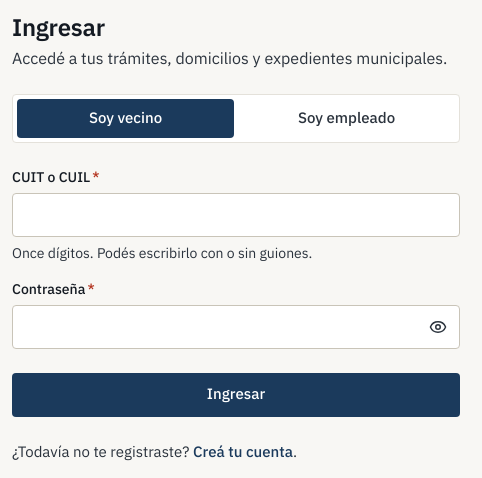
Test: validación › avisa si el CUIT no tiene 11 dígitos
The image size is (482, 478).
Step 1. Type "123" into the field labelled "CUIT o CUIL" → (236, 214), box [12,192,460,236]
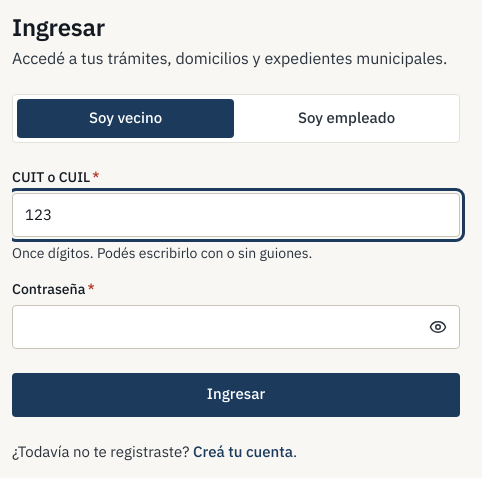
Step 2. Type "clave-larga" into the password field labelled "Contraseña" → (236, 326), box [12,304,460,348]
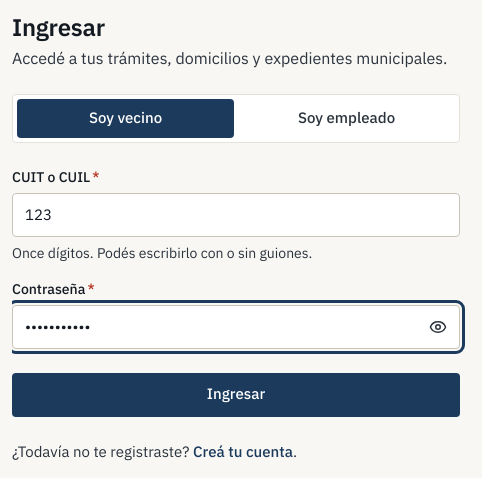
Step 3. Click the button "Ingresar" → click(236, 394), box [12,372,460,416]
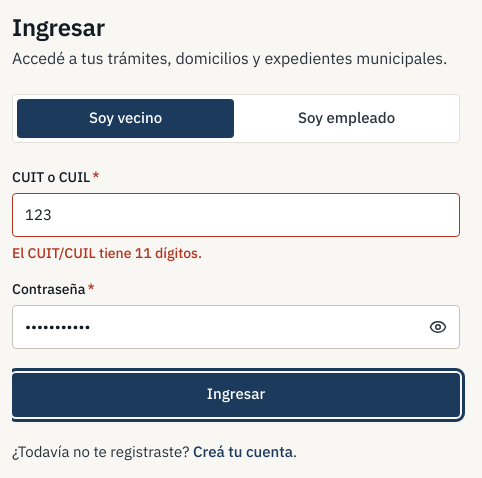
Result: the text "El CUIT/CUIL tiene 11 dígitos." is shown at [12,244,202,262]
